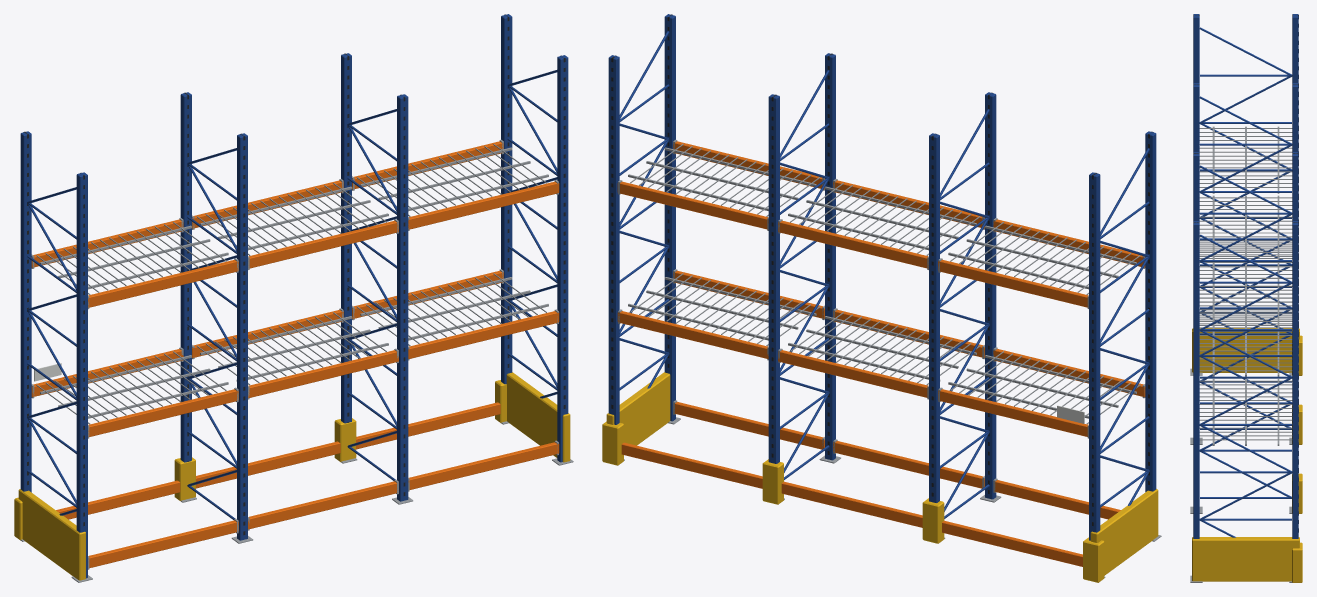
File: pallet_racking.glb
The picture shows the model from 3 angles, left to right: view 1: azimuth 30°, elevation 25°; view 2: azimuth 150°, elevation 25°; view 3: azimuth 270°, elevation 25°; orthographic projection. The views are drawn at different scales.
Parts seen in each view (by area): view 1: pallet_racking; view 2: pallet_racking; view 3: pallet_racking.
Part boxes in pixels (x1,y1,x2,y2): pallet_racking: [14, 14, 573, 582]; pallet_racking: [602, 14, 1161, 582]; pallet_racking: [1190, 14, 1302, 582].
Bounding box in the file's own units: 5.4 × 4.2 × 1.2.
